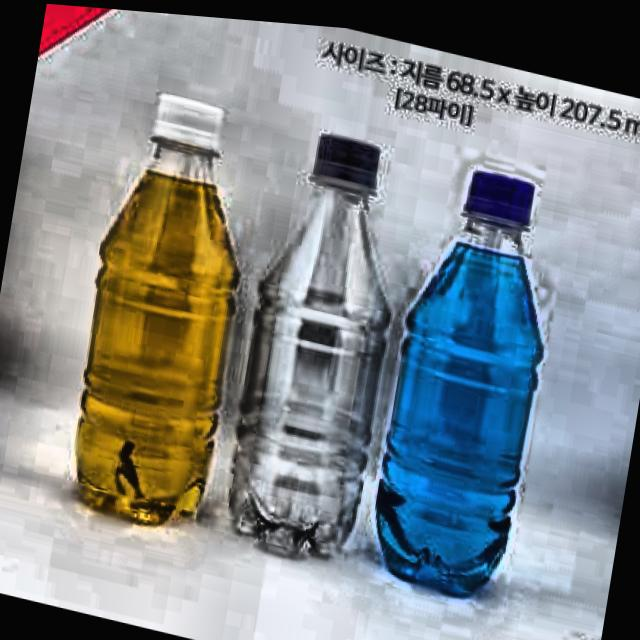Bottles: (209, 102, 427, 580)
